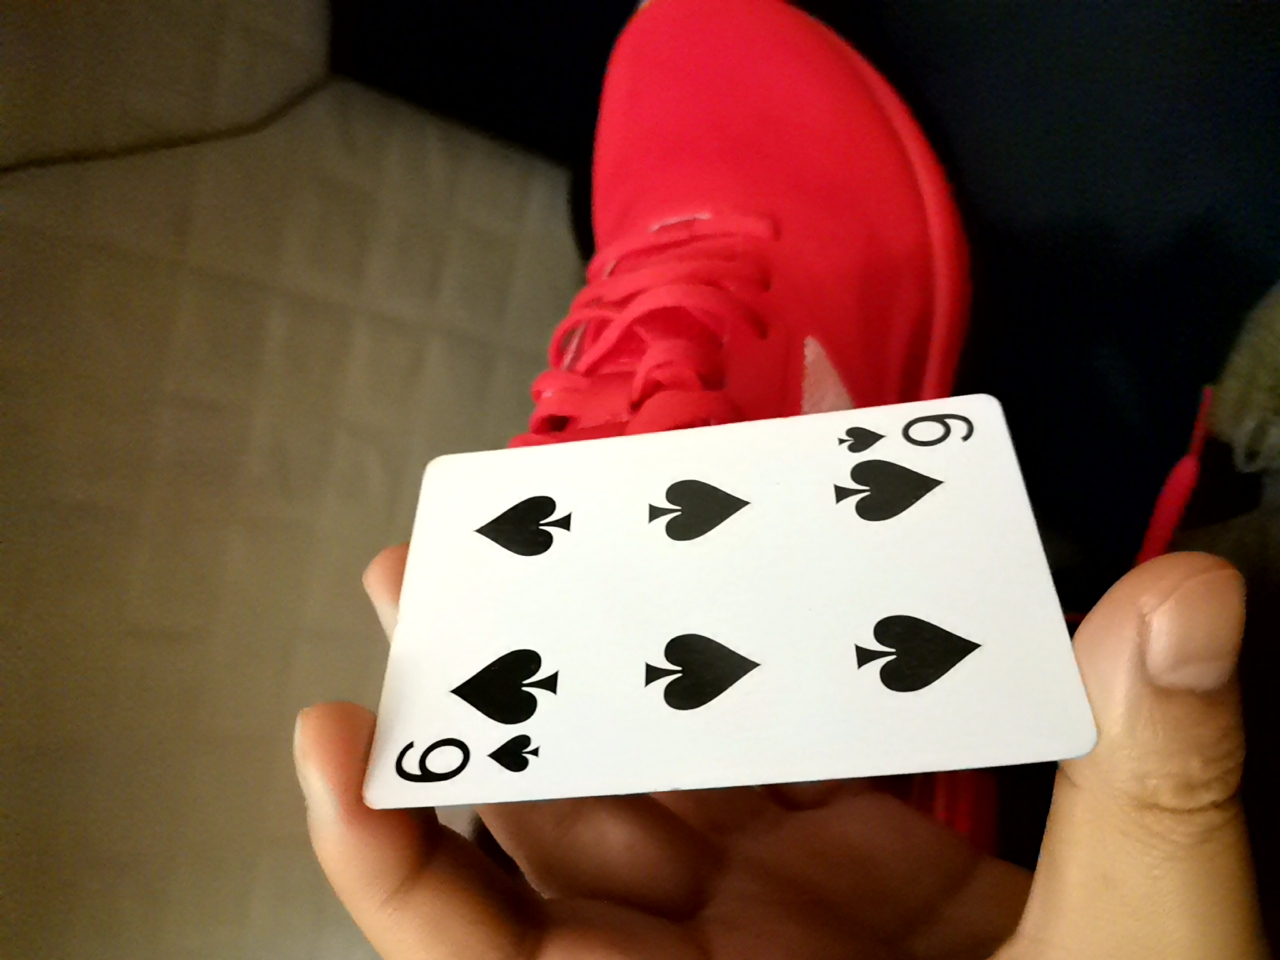ht 6: (349, 394, 1094, 828)
